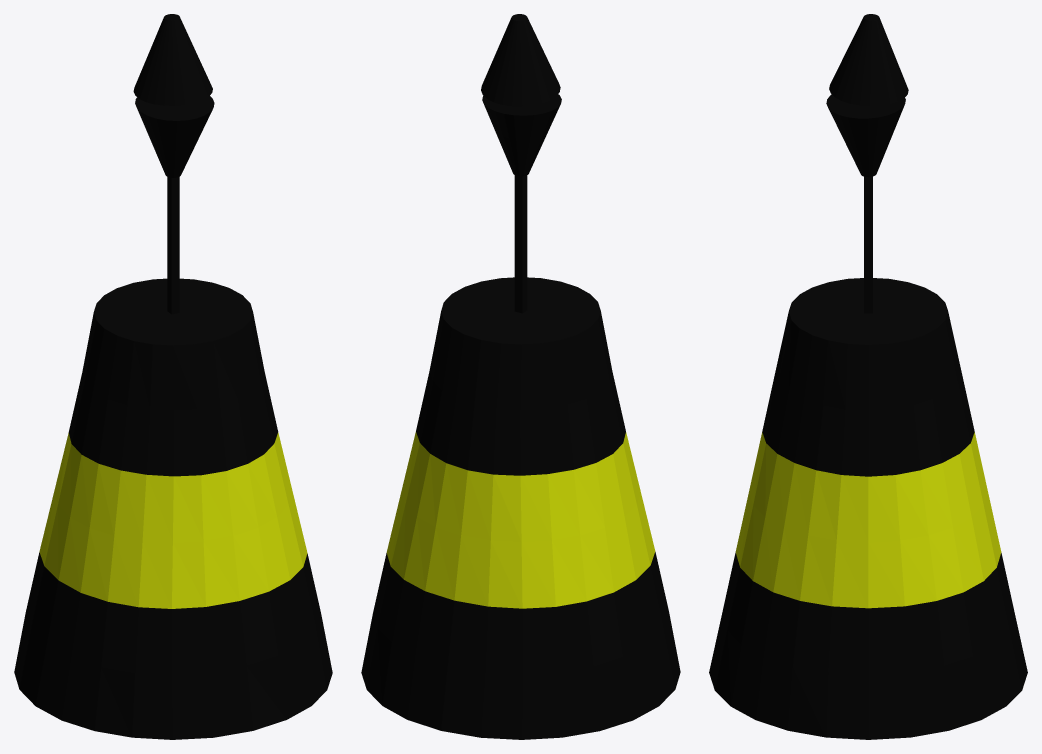
Rendered from east.dae.
The picture shows the model from 3 angles, left to right: view 1: azimuth 30°, elevation 25°; view 2: azimuth 150°, elevation 25°; view 3: azimuth 270°, elevation 25°; orthographic projection.
Visible parts, largest first — view 1: Cone01-FAC; view 2: Cone01-FAC; view 3: Cone01-FAC.
Boxes of the visible parts, <box> form: Cone01-FAC: <box>14,14,332,739</box>; Cone01-FAC: <box>361,14,680,739</box>; Cone01-FAC: <box>709,14,1027,739</box>.
Size of the model in its own units: 1.02 by 1.02 by 2.3.
